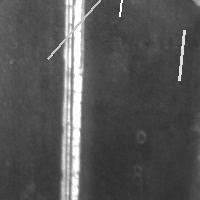scratches: (54, 1, 86, 199), (43, 0, 109, 63), (174, 25, 189, 85), (115, 0, 130, 21)
